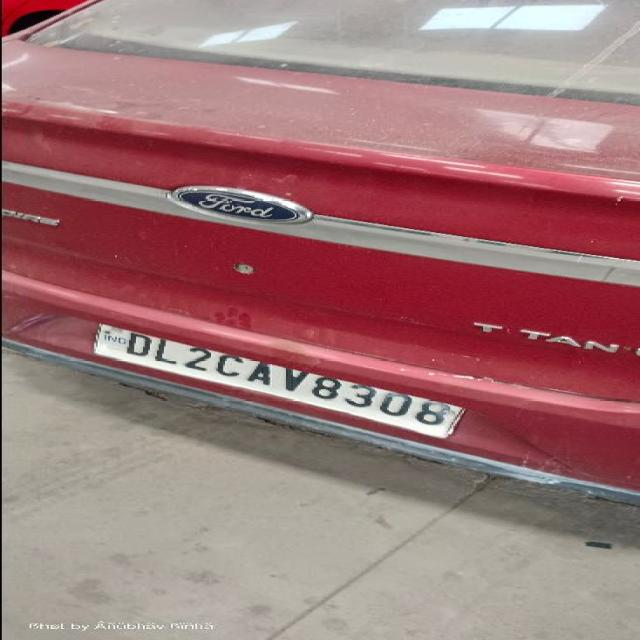license_plate: (91, 322, 467, 439)
